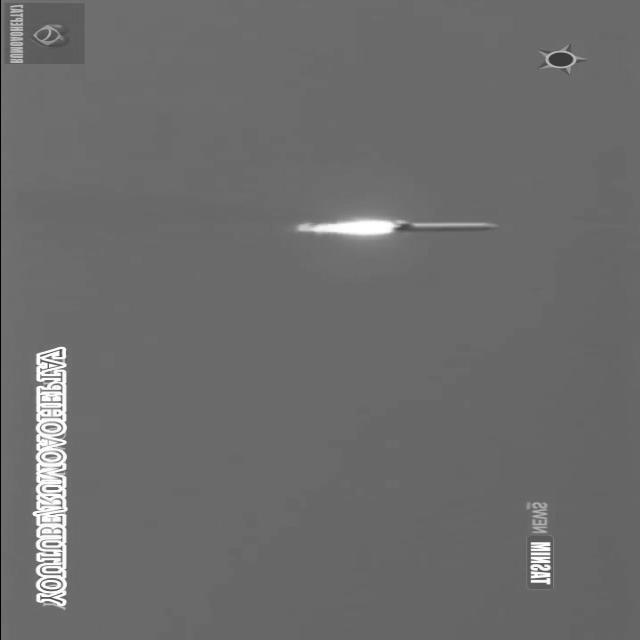missile: (376, 216, 516, 234)
